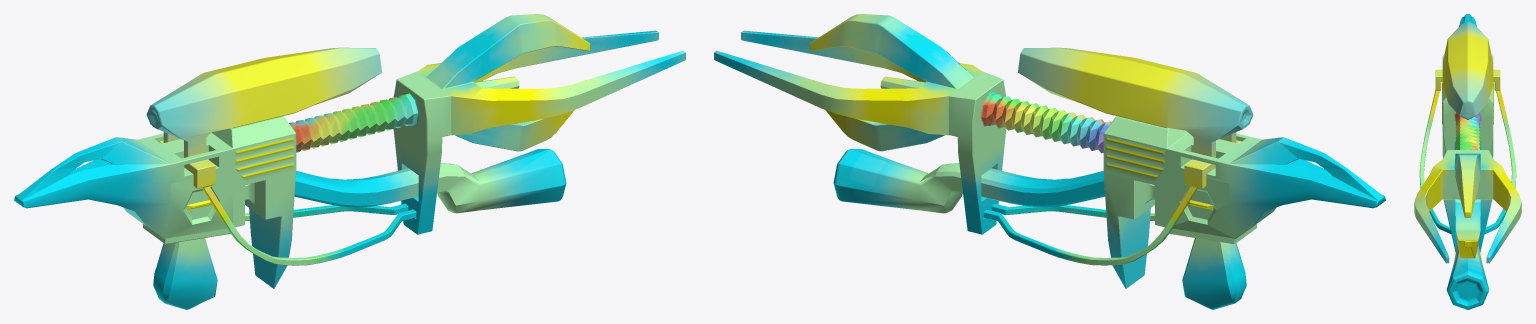
The model's file is textured_laser_gun.fbx.
The picture shows the model from 3 angles, left to right: view 1: azimuth 30°, elevation 25°; view 2: azimuth 150°, elevation 25°; view 3: azimuth 270°, elevation 25°; orthographic projection. The views are drawn at different scales.
Visible parts, largest first — view 1: polySurface2; view 2: polySurface2; view 3: polySurface2.
Boxes of the visible parts, left/top/right/bottom form: polySurface2: left=14, top=14, right=685, bottom=309; polySurface2: left=714, top=14, right=1385, bottom=309; polySurface2: left=1414, top=14, right=1521, bottom=309.
Bounding box in the file's own units: 55.77 × 18.46 × 10.57.
Materials: 1 (1 with a texture image).
